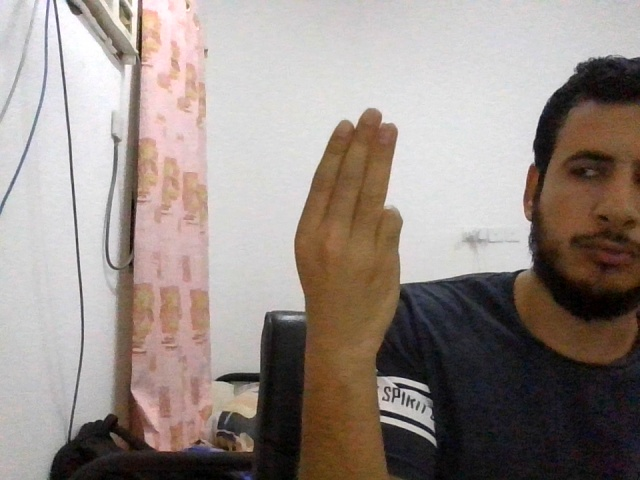Three: (294, 108, 401, 338)
